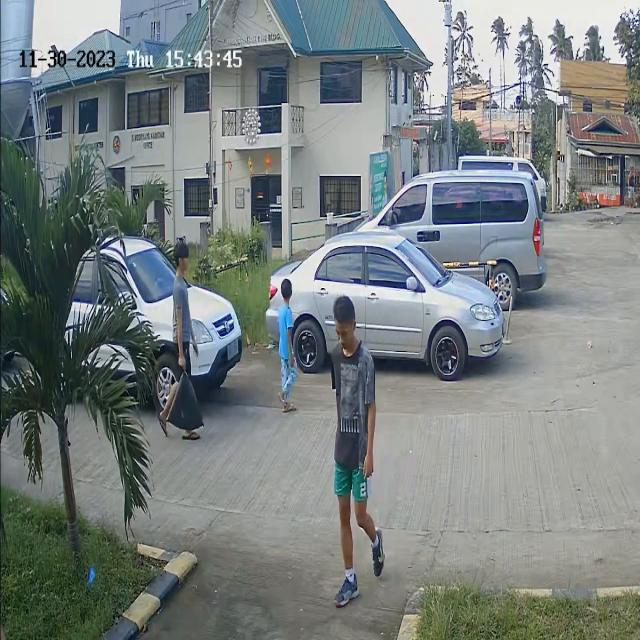garbage: (157, 366, 214, 436)
person: (330, 302, 371, 434), (270, 280, 302, 409), (166, 239, 202, 331)
